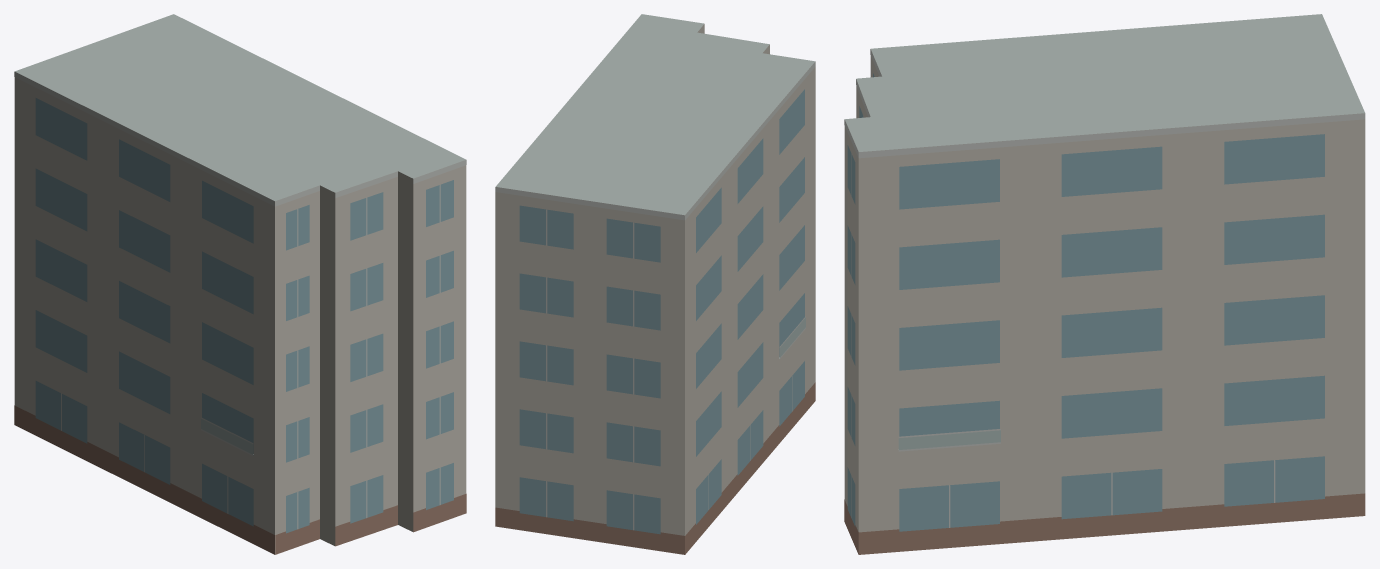
File: survey-upis-32646512.glb
3 renders of one model, left to right at view 1: azimuth 30°, elevation 25°; view 2: azimuth 150°, elevation 25°; view 3: azimuth 270°, elevation 25°, orthographic. The views are drawn at different scales.
Parts seen in each view (by area): view 1: survey-upis-32646512.tmp; view 2: survey-upis-32646512.tmp; view 3: survey-upis-32646512.tmp.
Part boxes in pixels (x1,y1,x2,y2): survey-upis-32646512.tmp: (14, 14, 466, 554); survey-upis-32646512.tmp: (495, 14, 815, 554); survey-upis-32646512.tmp: (844, 14, 1365, 554).
Size of the model in its own units: 11.71 by 15.9 by 18.64.
